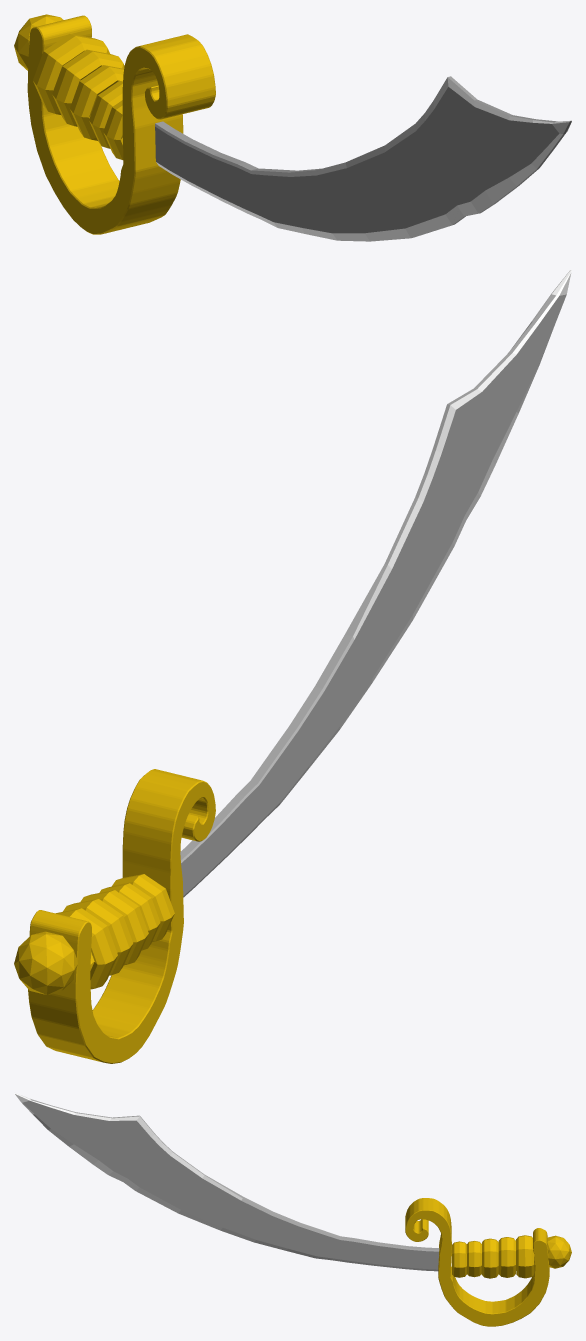
Rendered from Tool_Pirate.fbx.
3 renders of one model, top to bottom at view 1: azimuth 30°, elevation 25°; view 2: azimuth 150°, elevation 25°; view 3: azimuth 270°, elevation 25°, orthographic. The views are drawn at different scales.
Visible parts, largest first — view 1: Tool_PirateSword; view 2: Tool_PirateSword; view 3: Tool_PirateSword.
Part boxes in pixels (box(x1,y1,x2,y2)): Tool_PirateSword: box(14, 14, 571, 241); Tool_PirateSword: box(14, 270, 571, 1063); Tool_PirateSword: box(14, 1092, 571, 1326).
Size of the model in its own units: 13.14 by 71.78 by 159.
